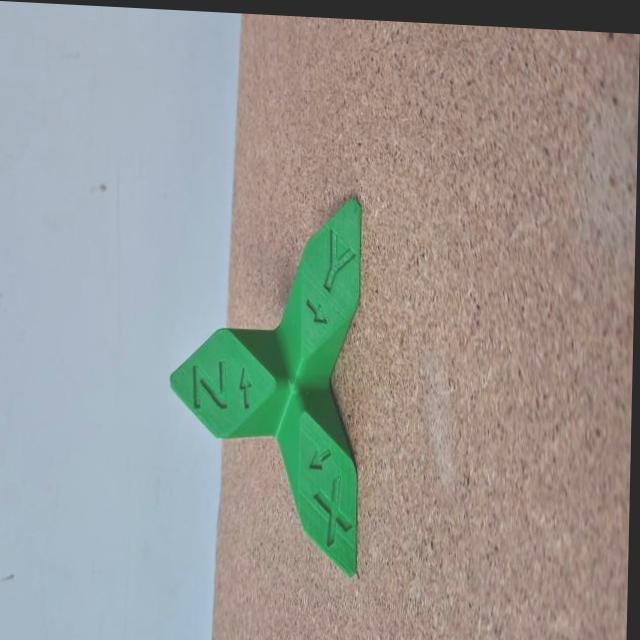eje: (161, 179, 370, 576)
